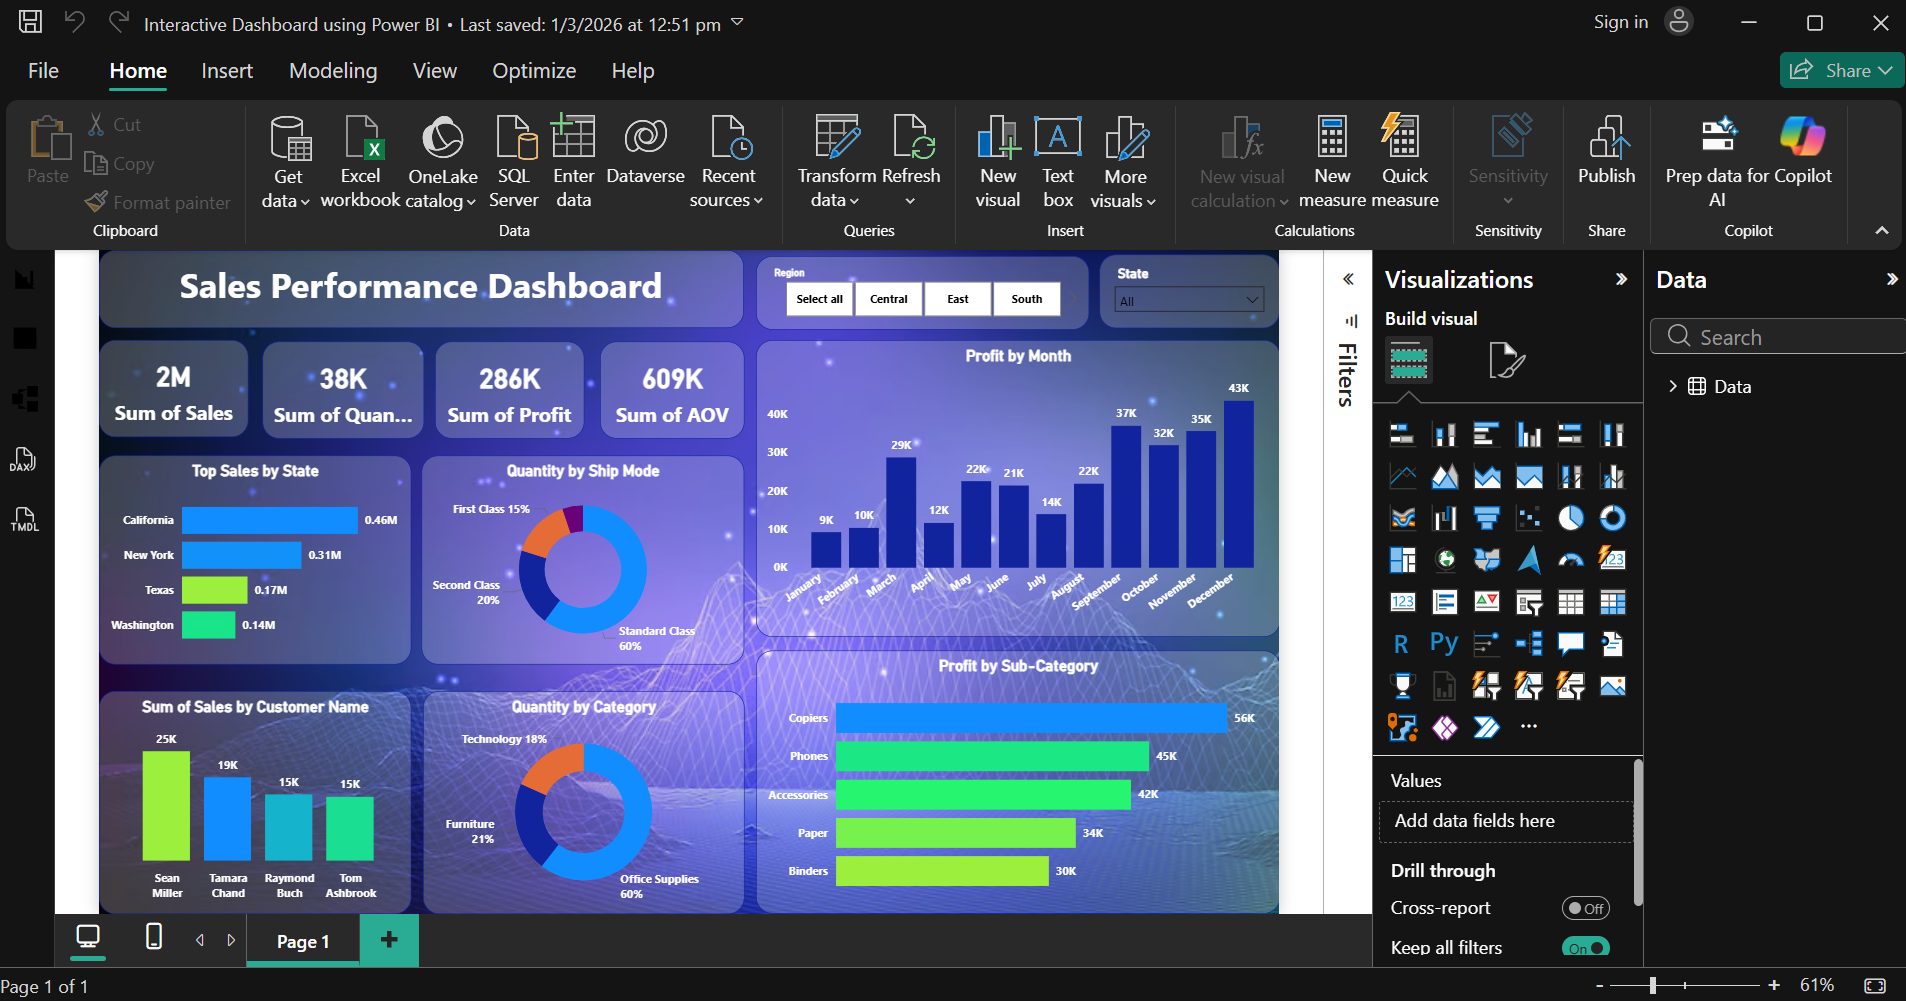

This screenshot's page, from the dashboard's own definition file:
{"tool":"powerbi","page":{"name":"Page 1","canvas":[1280,720],"ordinal":0},"visuals":[{"type":"columnChart","title":"Profit by Month","fields":{"Y":["Sum(Data.Profit)"],"Category":["Data.Order Date.Variation.Date Hierarchy.Month"]},"box":[711.7,98.3,568.3,321.7],"z":0},{"type":"donutChart","title":" Quantity by Category","fields":{"Category":["Data.Category"],"Y":["Sum(Data.Quantity)"]},"box":[351.7,478.3,348.3,241.7],"z":1000},{"type":"clusteredBarChart","title":" Profit by Sub-Category","fields":{"Y":["Sum(Data.Profit)"],"Category":["Data.Sub-Category"]},"box":[711.7,435,568.3,285],"z":2000},{"type":"donutChart","title":"Quantity by Ship Mode","fields":{"Y":["Sum(Data.Quantity)"],"Category":["Data.Ship Mode"]},"box":[350,223.3,350,226.7],"z":3000},{"type":"card","fields":{"Values":["Sum(Data.Sales)"]},"box":[0,98.3,161.7,105],"z":4000},{"type":"card","fields":{"Values":["Sum(Data.Quantity)"]},"box":[176.7,100,175,105],"z":5000},{"type":"card","fields":{"Values":["Sum(Data.Profit)"]},"box":[365,100,161.7,105],"z":6000},{"type":"card","fields":{"Values":["Sum(Data.AOV)"]},"box":[543.3,100,156.7,105],"z":7000},{"type":"clusteredBarChart","title":"Top  Sales by State","fields":{"Category":["Data.State"],"Y":["Sum(Data.Sales)"]},"box":[0,223.3,338.3,226.7],"z":8000},{"type":"columnChart","fields":{"Category":["Data.Customer Name"],"Y":["Sum(Data.Sales)"]},"box":[0,478.3,338.3,241.7],"z":9000},{"type":"textbox","box":[0,0,699.4,84.6],"z":10000},{"type":"slicer","fields":{"Values":["Data.Region"]},"box":[712.4,6.5,361.1,79.7],"z":11000},{"type":"slicer","fields":{"Values":["Data.State"]},"box":[1085,5,195,80],"z":12000}]}

Visuals, with their boxes on the page's 1280x720 design canvas (x1, y1, x2, y2). These are canvas units, not pixel positions in the 1906x1001 screenshot, which may show the page scaled, cropped or inside an application window:
"Profit by Month" columnChart: box=[712, 98, 1280, 420]
" Quantity by Category" donutChart: box=[352, 478, 700, 720]
" Profit by Sub-Category" clusteredBarChart: box=[712, 435, 1280, 720]
"Quantity by Ship Mode" donutChart: box=[350, 223, 700, 450]
card - Sum(Data.Sales): box=[0, 98, 162, 203]
card - Sum(Data.Quantity): box=[177, 100, 352, 205]
card - Sum(Data.Profit): box=[365, 100, 527, 205]
card - Sum(Data.AOV): box=[543, 100, 700, 205]
"Top  Sales by State" clusteredBarChart: box=[0, 223, 338, 450]
columnChart - Data.Customer Name x Sum(Data.Sales): box=[0, 478, 338, 720]
textbox: box=[0, 0, 699, 85]
slicer - Data.Region: box=[712, 6, 1074, 86]
slicer - Data.State: box=[1085, 5, 1280, 85]
